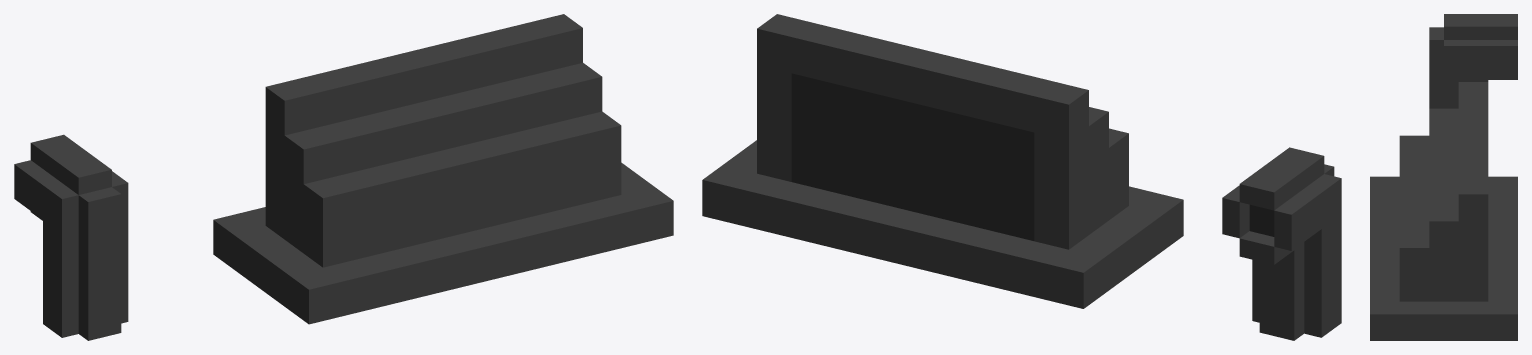
The model's file is House-4.obj.
The picture shows the model from 3 angles, left to right: view 1: azimuth 30°, elevation 25°; view 2: azimuth 150°, elevation 25°; view 3: azimuth 270°, elevation 25°; orthographic projection. The views are drawn at different scales.
Size of the model in its own units: 3.4 by 1 by 1.
1 material, 1 textured.
